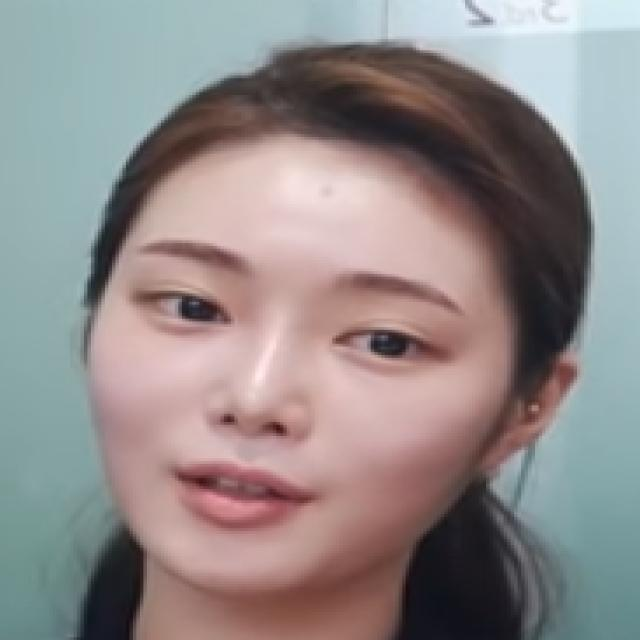face: (89, 43, 582, 583)
